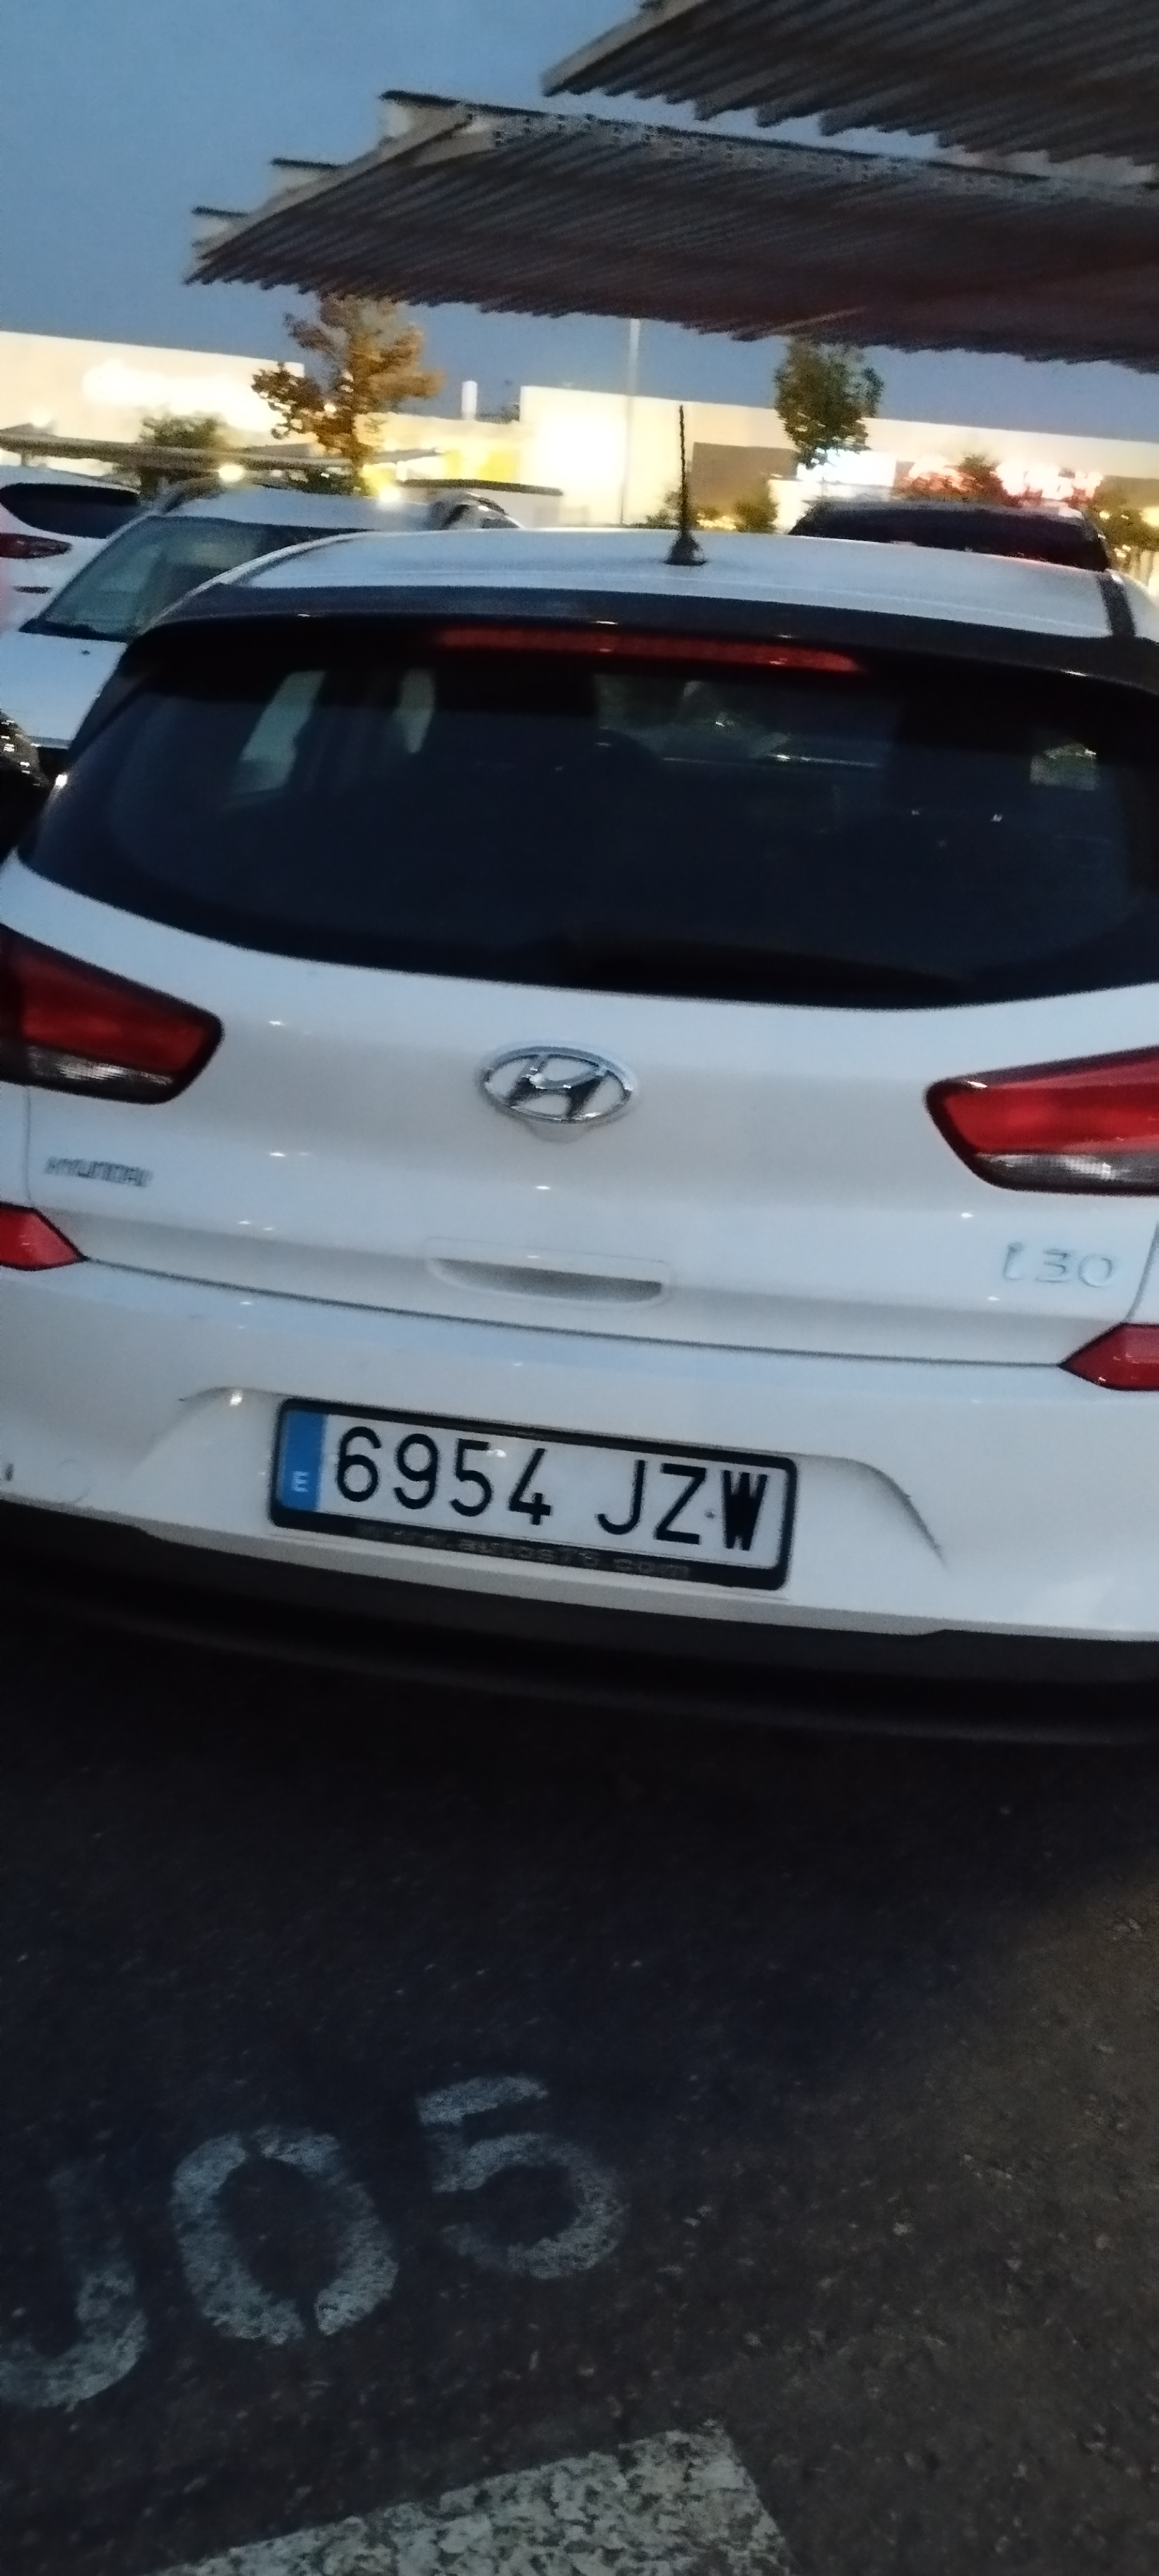Car: (3, 531, 1158, 1719)
Plate: (286, 1391, 804, 1523)
